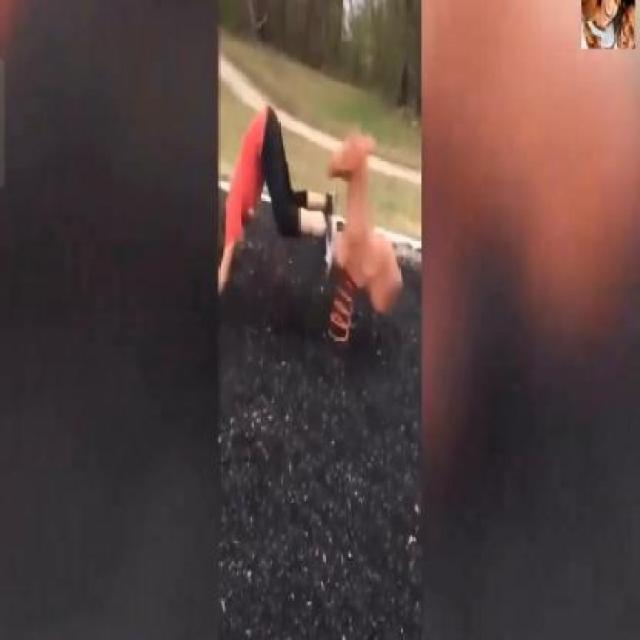fall: (223, 104, 335, 304)
